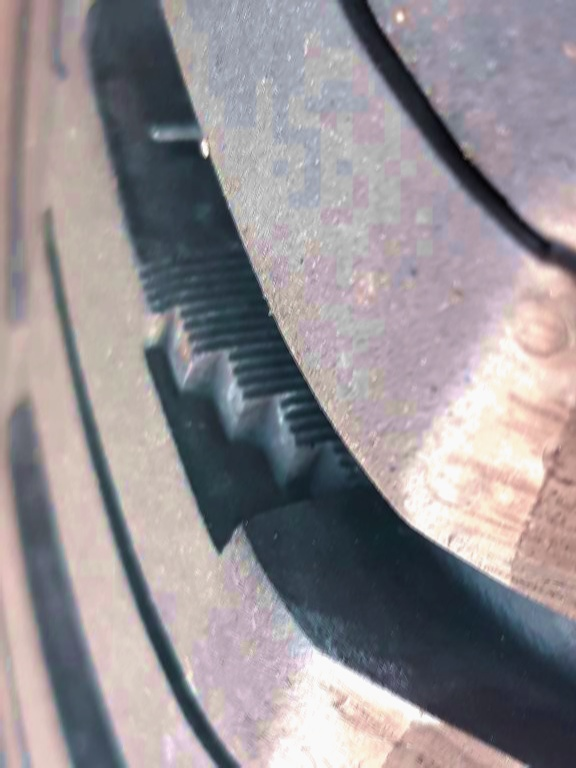temoin:90: (100, 229, 376, 570)
